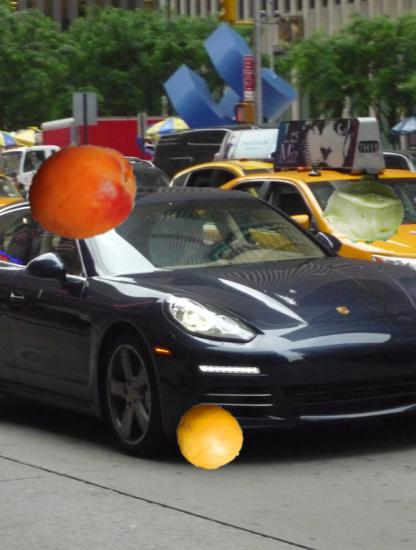Apricot: (26, 135, 139, 248)
Grapefruit: (175, 402, 245, 472)
Kohlrabi: (321, 167, 406, 252)
